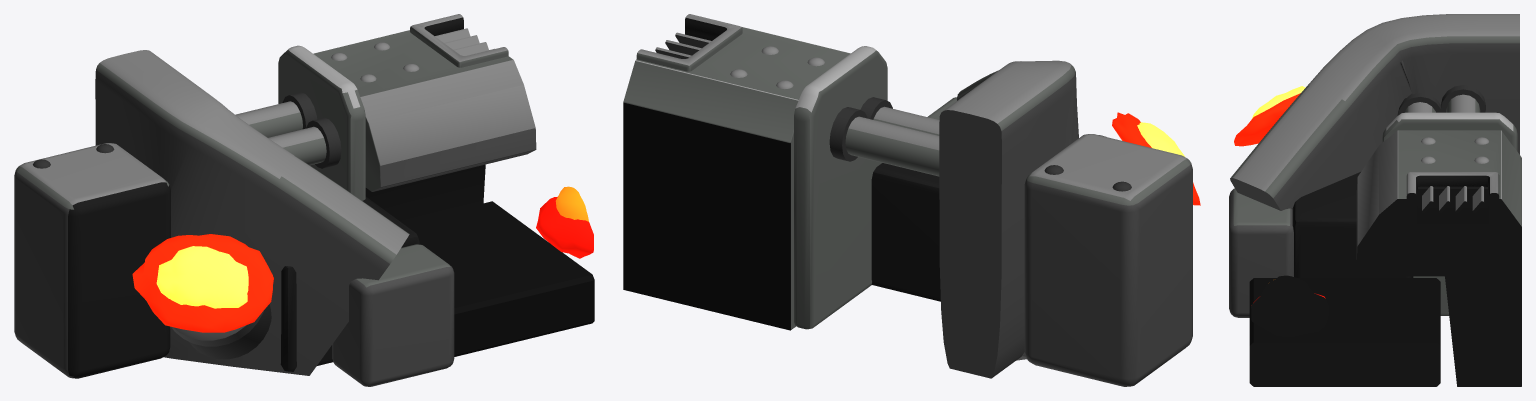
The model's file is jaw_gun_b_left_271.glb.
3 renders of one model, left to right at view 1: azimuth 30°, elevation 25°; view 2: azimuth 150°, elevation 25°; view 3: azimuth 270°, elevation 25°, orthographic. The views are drawn at different scales.
Visible parts, largest first — view 1: bracket.001, pod.001, upper_jaw.001, mouth_floor.001, bracket_foot.001, flare0.001, flange.001, flare1.001, base.001, barrel.001, fireball0.001, bezel.001 (+5 smaller); view 2: upper_jaw.001, pod.001, bracket.001, flange.001, base.001, rod0.001, bezel.001, rod1.001, rod0_collar0.001, flare0.001, flare1.001; view 3: upper_jaw.001, bracket.001, mouth_floor.001, base.001, bracket_foot.001, fireball0.001, flange.001, bezel.001, flare0.001, fireball1.001, slat_rail1.001, rod0_collar1.001 (+5 smaller).
Part boxes in pixels (<box>): bracket.001: <box>95,50,409,375</box>; pod.001: <box>14,143,170,378</box>; upper_jaw.001: <box>313,24,536,222</box>; mouth_floor.001: <box>402,201,594,356</box>; bracket_foot.001: <box>332,244,454,386</box>; flare0.001: <box>132,234,273,332</box>; flange.001: <box>278,45,365,200</box>; flare1.001: <box>156,246,248,308</box>; base.001: <box>280,196,419,371</box>; barrel.001: <box>171,304,271,359</box>; fireball0.001: <box>536,197,593,258</box>; bezel.001: <box>410,14,508,67</box>; upper_jaw.001: <box>623,25,850,330</box>; pod.001: <box>1024,134,1192,386</box>; bracket.001: <box>939,60,1078,378</box>; flange.001: <box>794,46,887,329</box>; base.001: <box>871,163,940,301</box>; rod0.001: <box>845,116,939,176</box>; bezel.001: <box>636,14,742,71</box>; rod1.001: <box>873,106,939,135</box>; rod0_collar0.001: <box>829,107,867,161</box>; flare0.001: <box>1112,112,1200,205</box>; flare1.001: <box>1137,122,1184,156</box>; upper_jaw.001: <box>1356,130,1521,386</box>; bracket.001: <box>1230,14,1519,210</box>; mouth_floor.001: <box>1249,278,1440,386</box>; base.001: <box>1292,172,1413,277</box>; bracket_foot.001: <box>1229,188,1293,317</box>; fireball0.001: <box>1251,288,1329,337</box>; flange.001: <box>1382,112,1517,315</box>; bezel.001: <box>1406,172,1499,208</box>; flare0.001: <box>1234,93,1300,146</box>; fireball1.001: <box>1260,275,1315,323</box>; slat_rail1.001: <box>1418,186,1487,208</box>; rod0_collar1.001: <box>1440,85,1485,112</box>.
Bounding box in the file's own units: 23.4 × 11.85 × 14.25.
